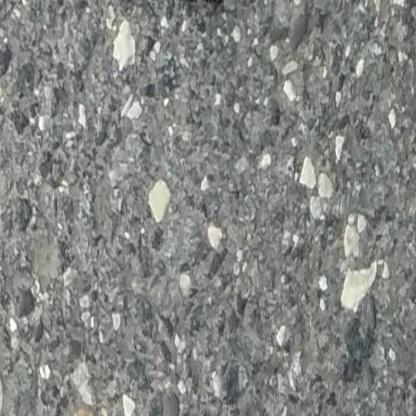Cracks: (149, 0, 237, 14)
